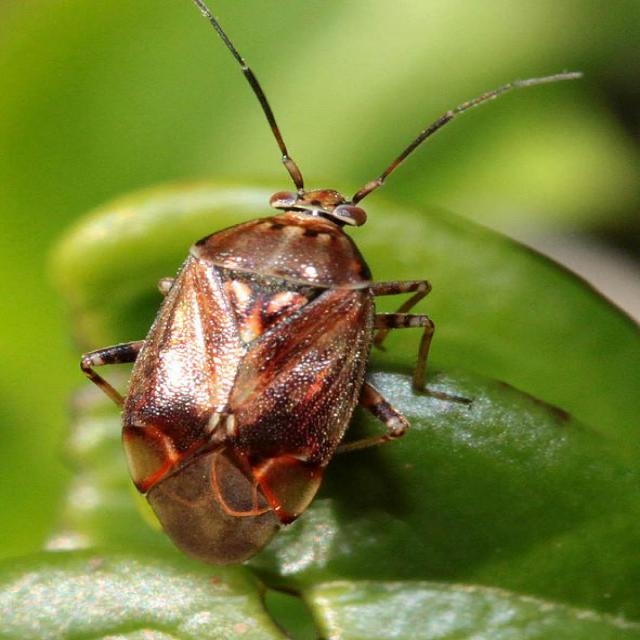Miridae-Adult-: (77, 1, 590, 566)
